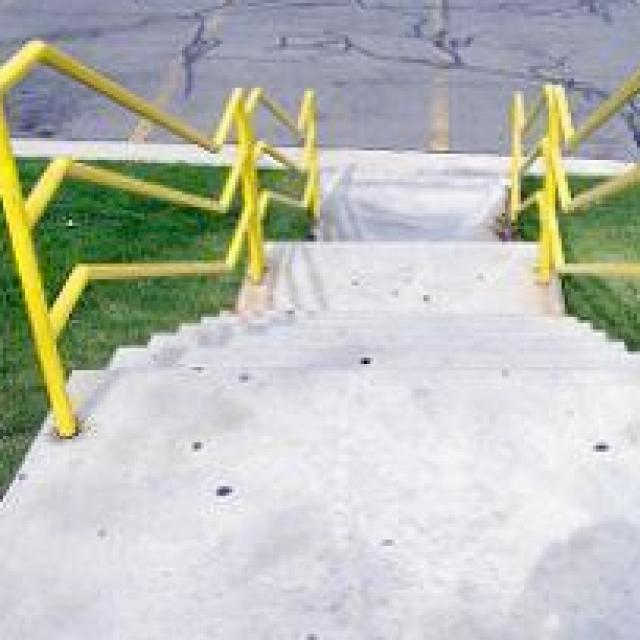downstair: (111, 274, 640, 506)
